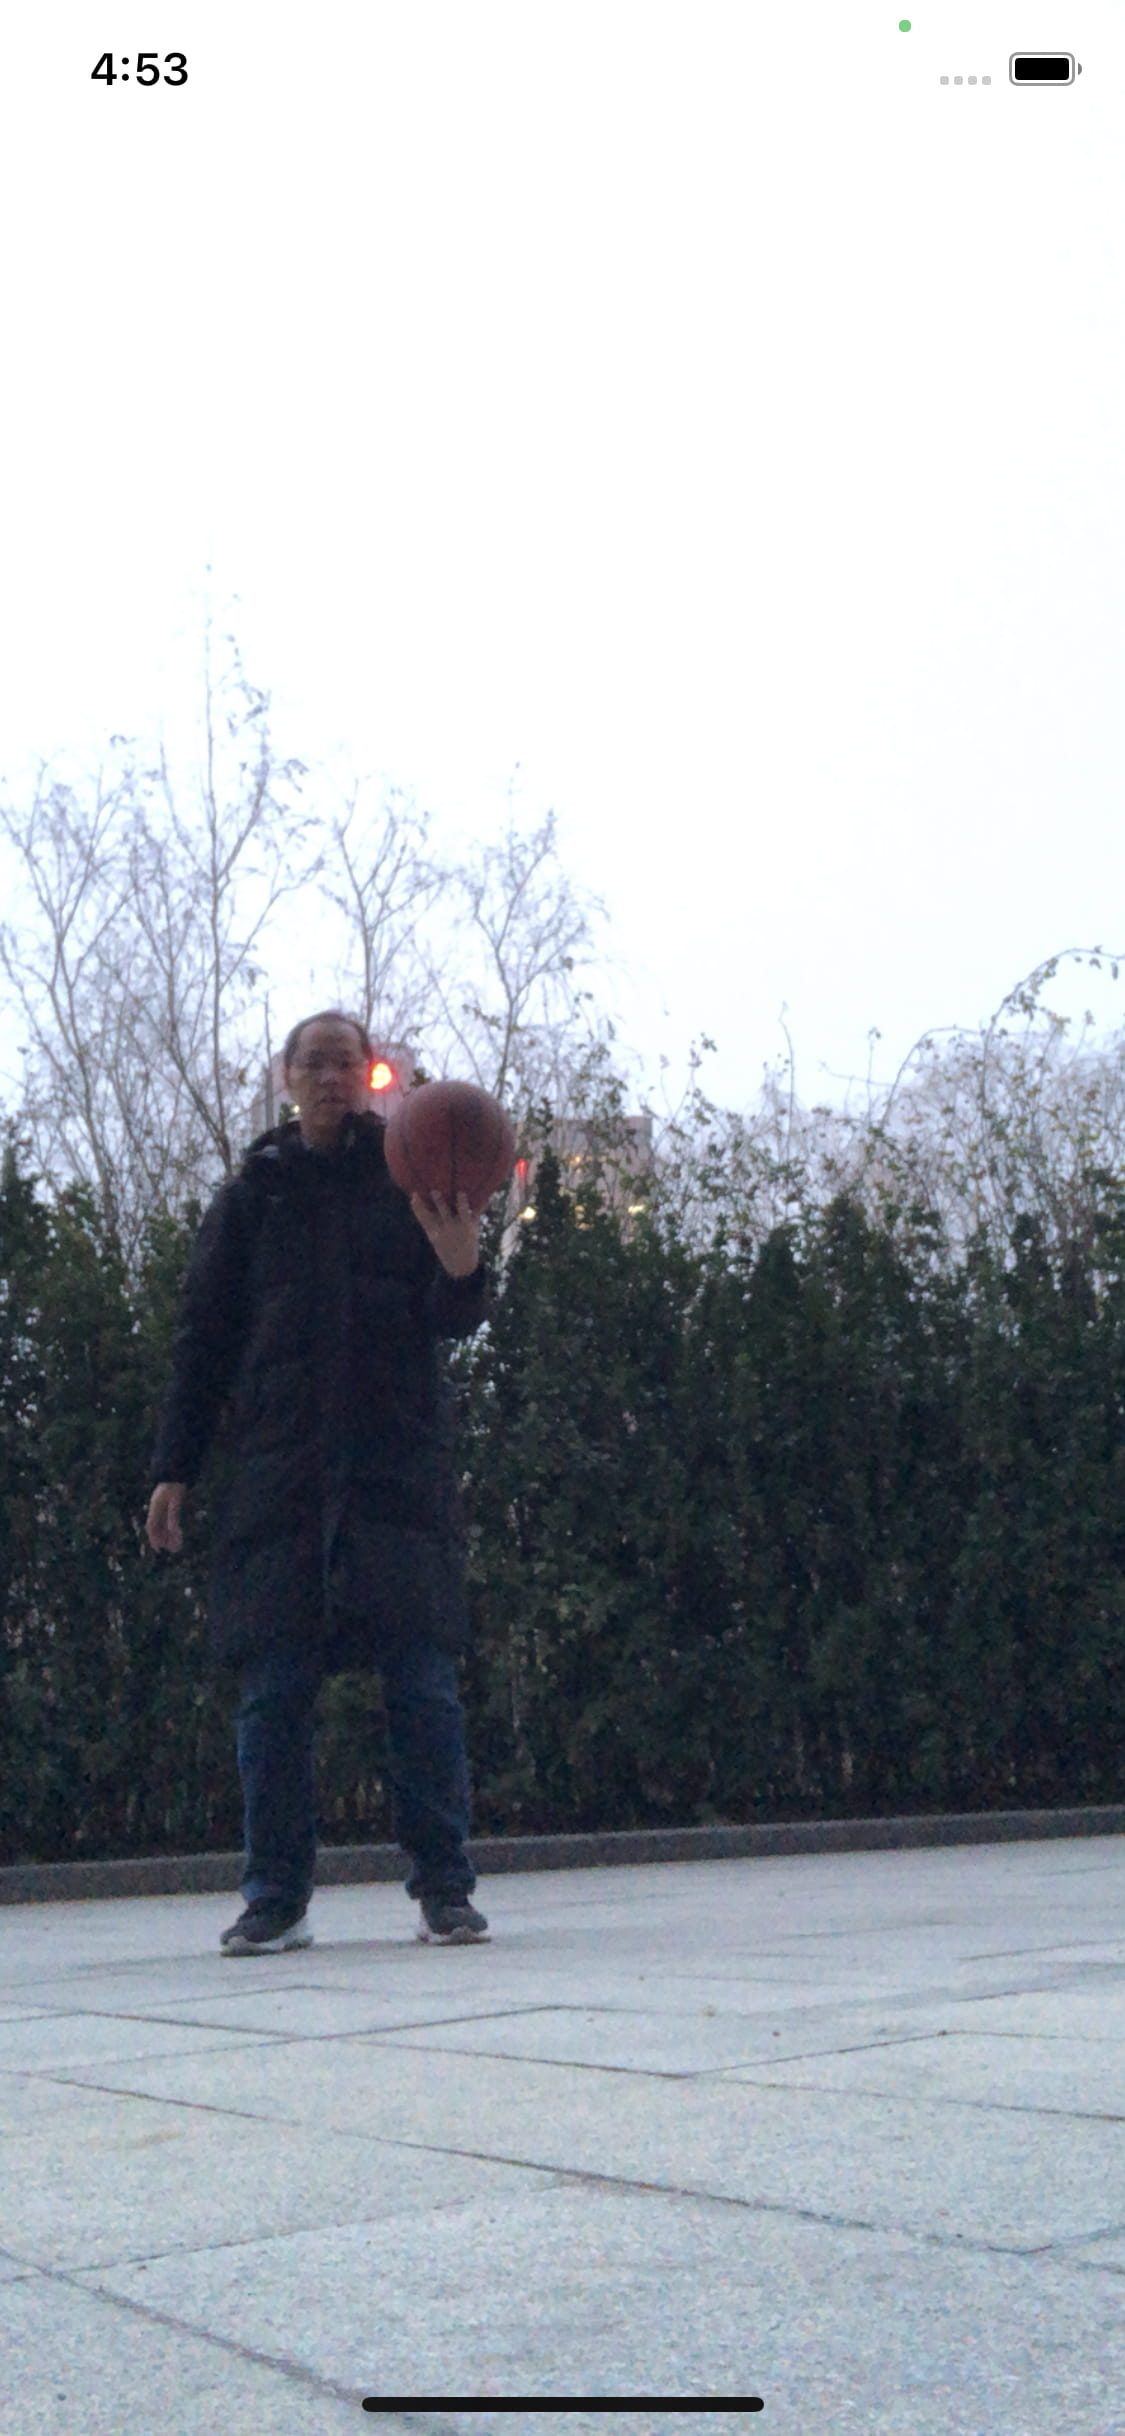ball: (378, 1075, 527, 1209)
